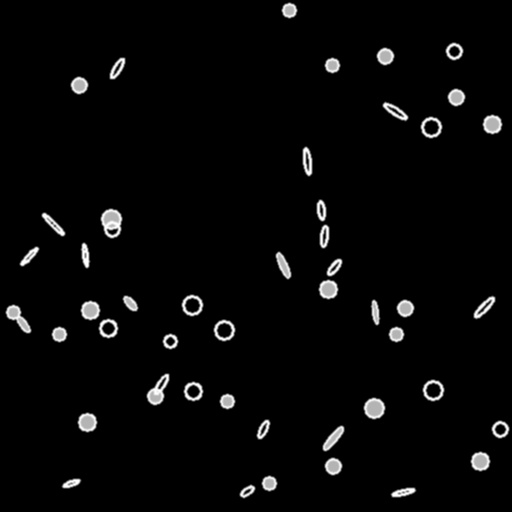pseudomonas: (321, 425, 345, 451), (472, 295, 496, 319), (41, 212, 65, 236), (382, 101, 408, 121), (275, 251, 291, 279), (108, 56, 126, 80), (20, 246, 38, 266), (153, 373, 169, 395), (15, 314, 31, 334), (326, 258, 342, 276), (256, 419, 270, 439), (302, 148, 312, 174), (122, 295, 138, 311), (391, 487, 415, 497), (239, 484, 255, 498), (319, 225, 329, 247), (81, 243, 89, 267), (371, 301, 379, 323), (317, 200, 325, 220), (63, 478, 79, 488)
synechocystis: (365, 399, 383, 417), (215, 321, 233, 339), (102, 210, 120, 228), (183, 296, 201, 314), (424, 381, 442, 399), (422, 118, 440, 136), (185, 383, 201, 399), (472, 453, 488, 469), (82, 302, 98, 318), (320, 281, 336, 297), (484, 116, 500, 132), (100, 320, 116, 336), (79, 414, 95, 430), (148, 389, 162, 403), (398, 301, 412, 315), (493, 422, 507, 436), (72, 78, 86, 92), (447, 44, 461, 58), (449, 90, 463, 104), (105, 222, 119, 236), (326, 459, 340, 473), (378, 49, 392, 63), (221, 395, 233, 407), (390, 328, 402, 340), (263, 477, 275, 489), (7, 306, 19, 318), (283, 4, 295, 16), (53, 328, 65, 340), (164, 335, 176, 347), (326, 59, 338, 71)
